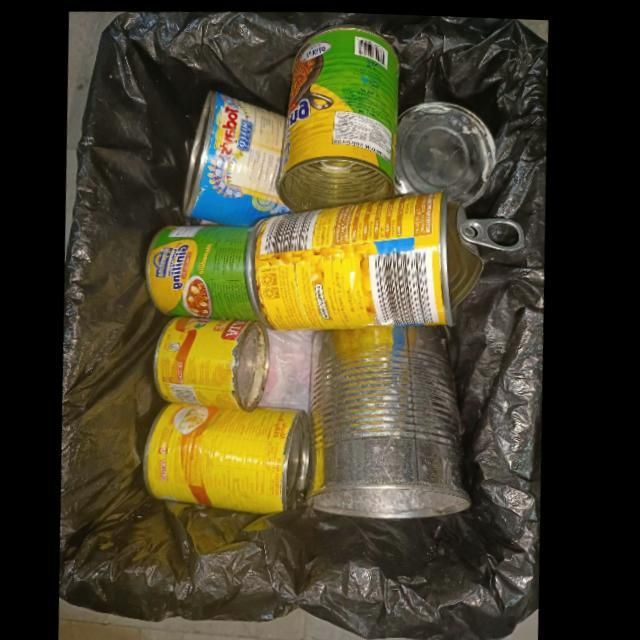metal: (248, 187, 529, 329), (311, 322, 478, 518), (278, 24, 402, 211), (147, 401, 320, 512), (185, 89, 294, 225), (157, 315, 274, 410), (396, 98, 499, 204), (148, 224, 262, 319)
